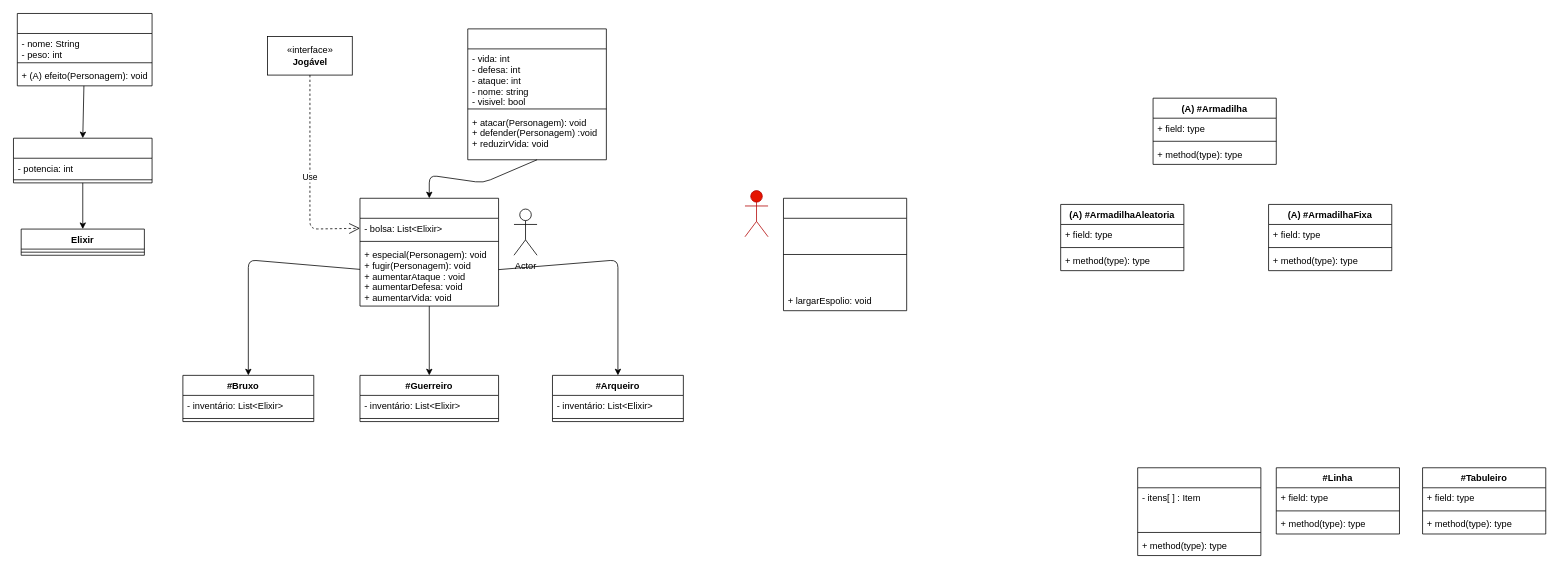
This 1559x571 diagram has some shape labels left out. The box of each missing label's shape, as (x1, y1, x2, y2) in pixels:
#Celula: (1137, 467, 1261, 556)
(A) #Heroi: (359, 198, 499, 306)
(A) #Inimigo: (783, 198, 907, 311)
(A) #Item: (17, 13, 152, 86)
(A) #Personagem: (467, 28, 606, 160)
ItemDeCura: (13, 137, 152, 183)
